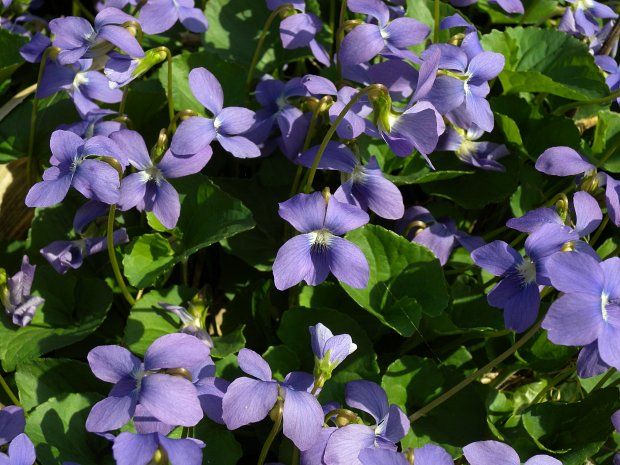violet: (319, 377, 558, 465), (70, 347, 230, 422), (334, 74, 458, 167), (535, 246, 620, 371), (273, 197, 385, 289), (230, 347, 322, 447), (22, 120, 123, 205), (423, 32, 508, 130), (113, 131, 200, 222), (481, 236, 563, 332), (532, 128, 620, 214), (172, 66, 254, 151), (254, 75, 329, 154), (36, 212, 133, 270), (344, 6, 428, 68), (42, 11, 137, 64)
